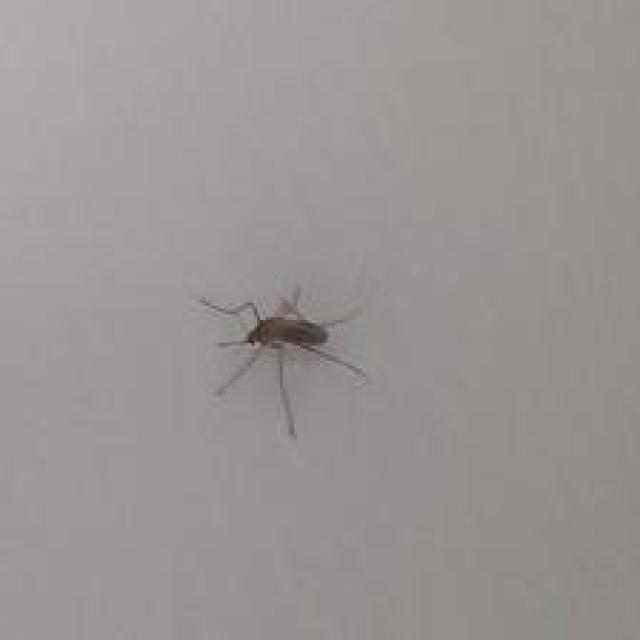Culex: (197, 273, 372, 438)
